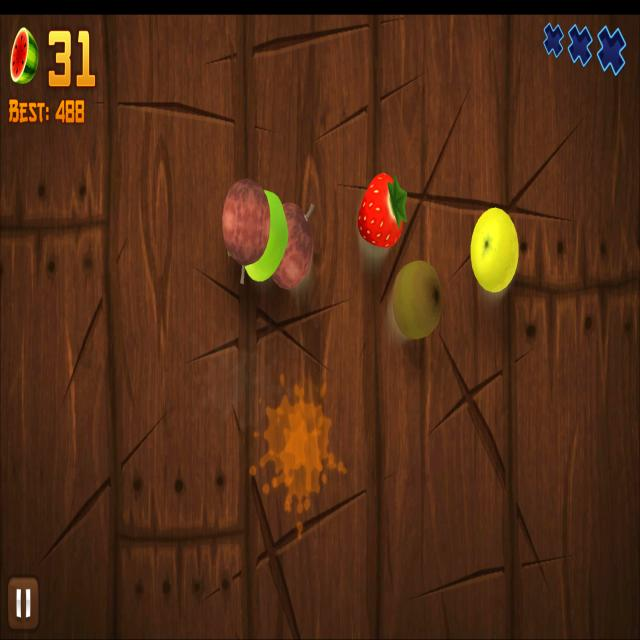fruit: (470, 207, 520, 294), (222, 178, 270, 266), (244, 190, 289, 281), (392, 260, 442, 338), (272, 202, 314, 289), (358, 172, 403, 248)
